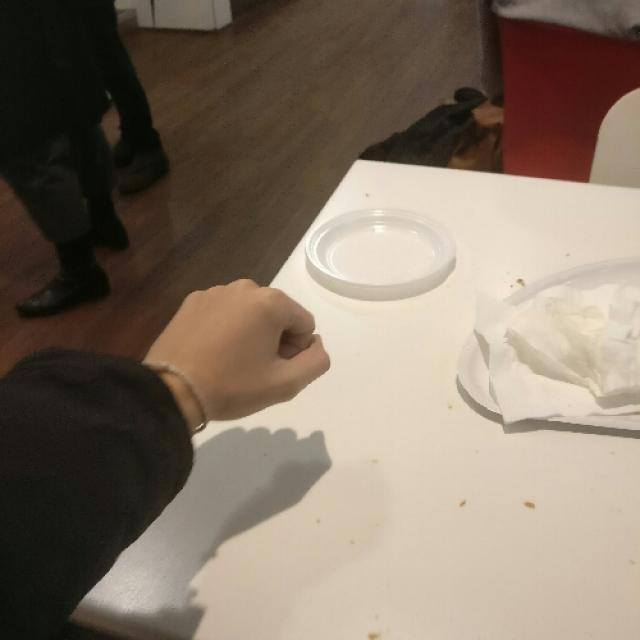rock: (142, 276, 334, 424)
